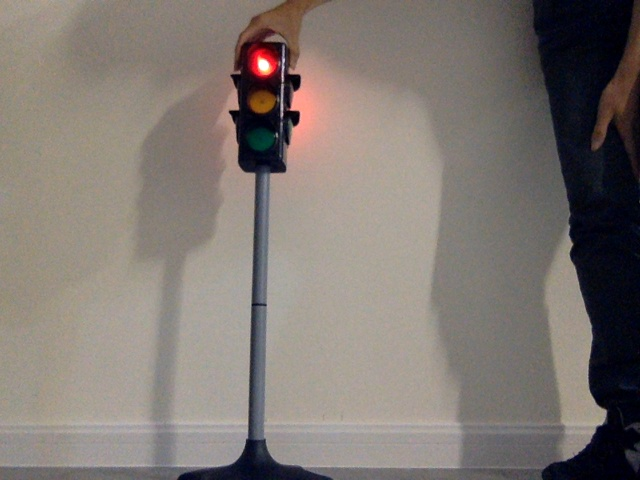red: (243, 48, 279, 157)
